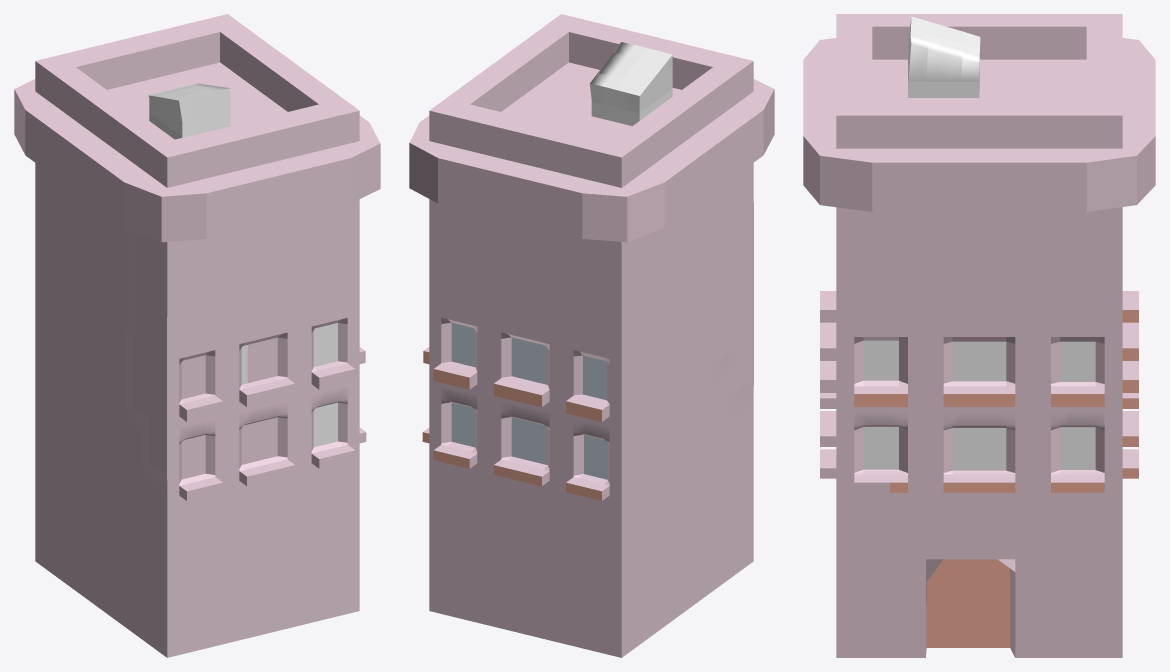
Rendered from House Rexport.fbx.
3 renders of one model, left to right at view 1: azimuth 30°, elevation 25°; view 2: azimuth 150°, elevation 25°; view 3: azimuth 270°, elevation 25°, orthographic. The views are drawn at different scales.
Visible parts, largest first — view 1: ab:building_two; view 2: ab:building_two; view 3: ab:building_two.
Part boxes in pixels (x1,y1,x2,y2): ab:building_two: [14, 14, 380, 657]; ab:building_two: [409, 14, 774, 657]; ab:building_two: [803, 14, 1155, 657].
Size of the model in its own units: 2.18 by 4.43 by 2.51.
